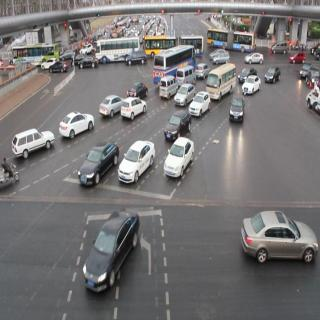BigCar: (207, 24, 255, 54), (98, 37, 142, 64), (10, 44, 62, 63)
Car: (240, 209, 317, 270), (84, 209, 141, 291), (78, 143, 118, 187), (118, 138, 156, 184), (164, 138, 195, 184), (12, 130, 56, 153), (208, 64, 236, 98), (59, 115, 95, 138), (121, 97, 146, 121), (190, 92, 212, 118), (100, 95, 120, 119), (158, 76, 178, 98), (229, 96, 244, 125), (174, 83, 191, 108), (243, 75, 261, 97), (129, 83, 149, 100), (244, 52, 265, 68), (264, 67, 280, 87), (78, 54, 98, 70), (125, 53, 145, 68), (272, 40, 289, 56), (209, 49, 229, 62), (289, 52, 306, 66), (50, 62, 68, 74), (197, 62, 207, 78)
